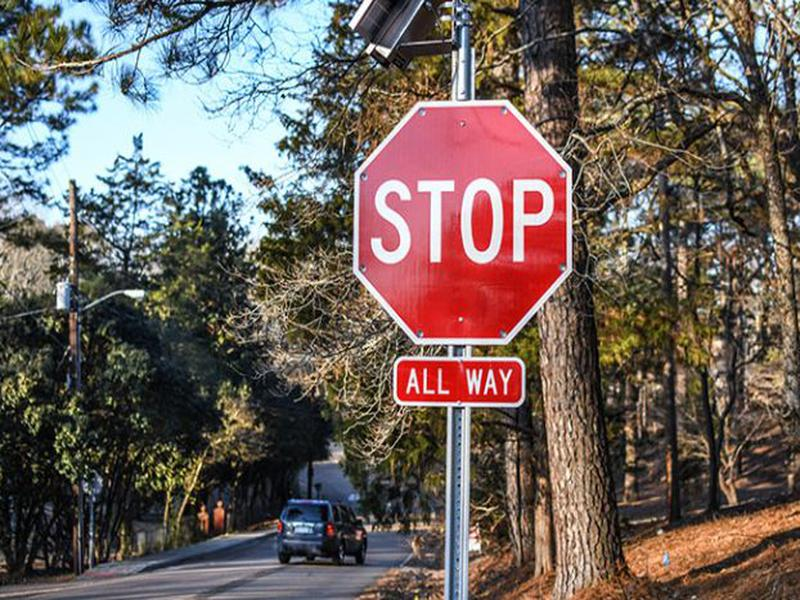stop: (346, 97, 577, 348)
